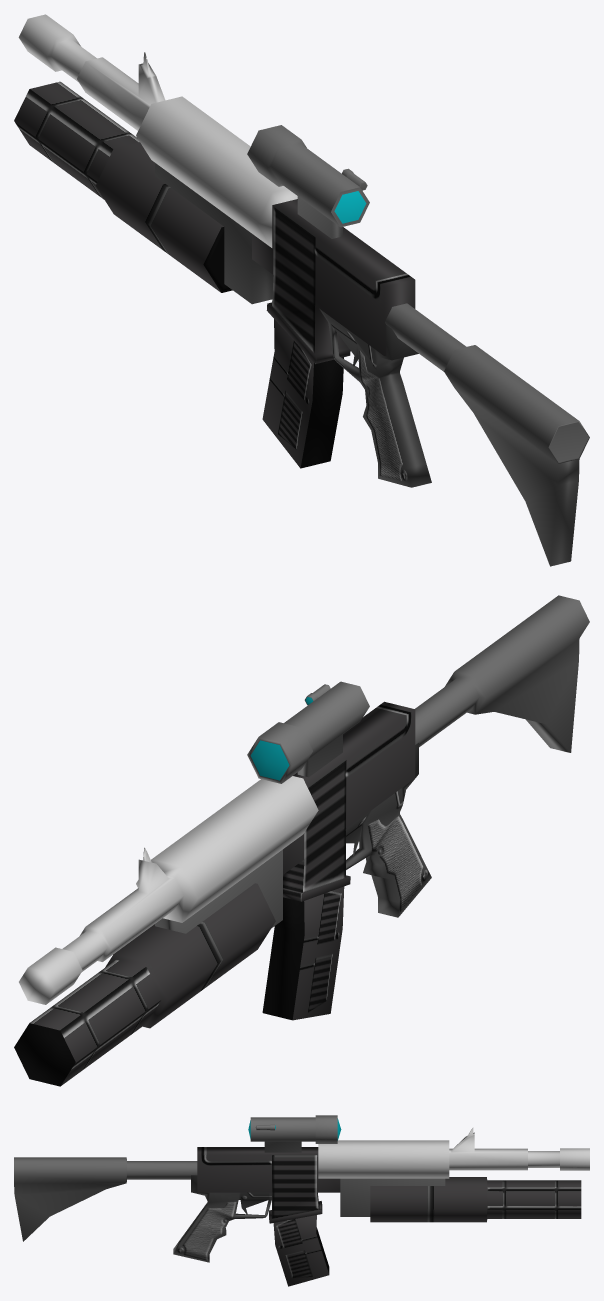
Rendered from arma.fbx.fbx.
3 renders of one model, top to bottom at view 1: azimuth 30°, elevation 25°; view 2: azimuth 150°, elevation 25°; view 3: azimuth 270°, elevation 25°, orthographic. The views are drawn at different scales.
Visible parts, largest first — view 1: polySurface24; view 2: polySurface24; view 3: polySurface24.
Part boxes in pixels (bbox=[...]): polySurface24: bbox=[14, 14, 589, 566]; polySurface24: bbox=[14, 595, 589, 1086]; polySurface24: bbox=[14, 1115, 589, 1286].
Bounding box in the file's own units: 1.39 × 5.55 × 17.62.
